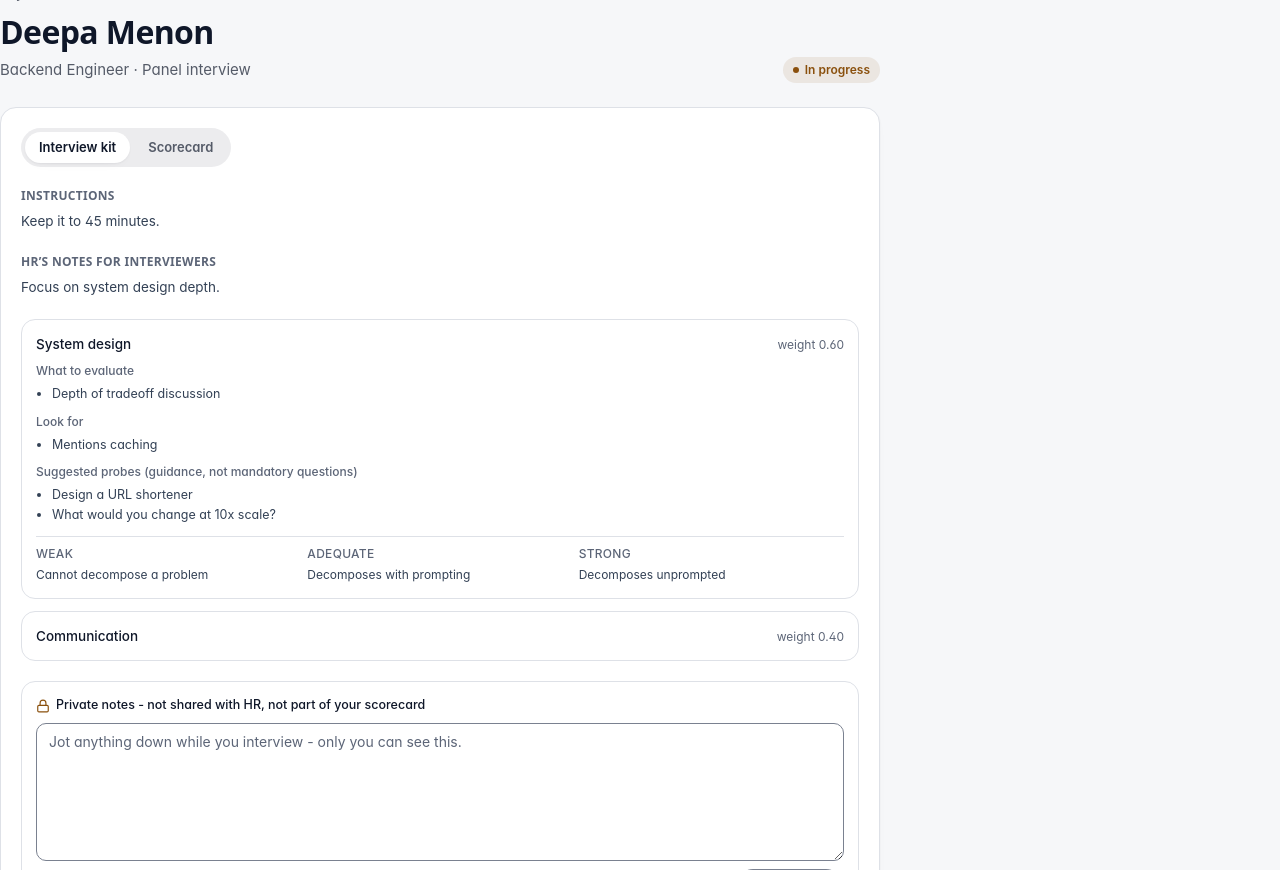
Test: InterviewerScorecard - the interview kit tab › labels the notes textarea as private and saves them
This screenshot has width=1280, height=870.
Expected: the text "not shared with HR, not part of your scorecard" is shown, [56,697,425,712]
Type "Candidate hesitated on caching." into the text box labelled "Private" at coordinates (440, 792), box [36,723,844,861]
(page scrolled)
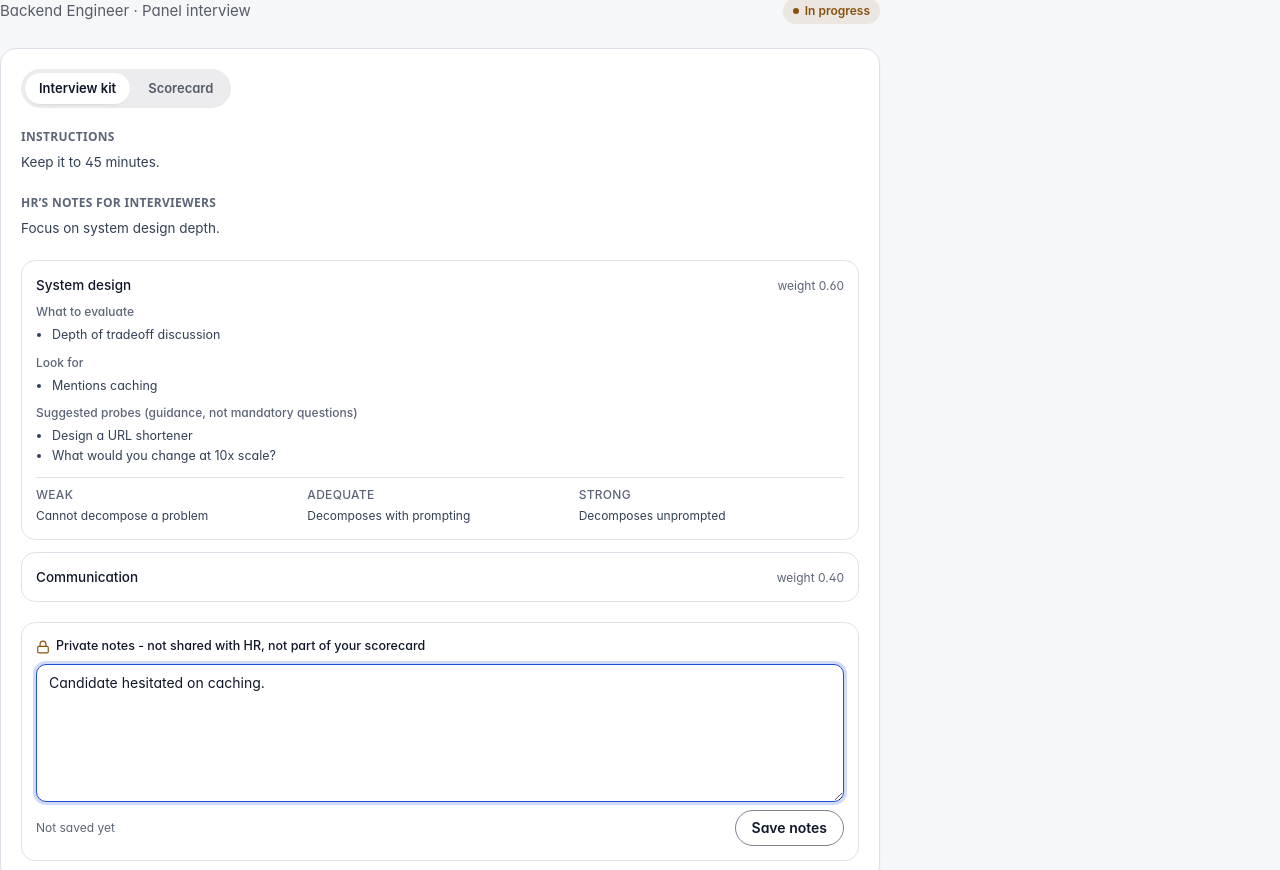
Click the button "Save notes" at coordinates (789, 828), box [734,810,844,846]
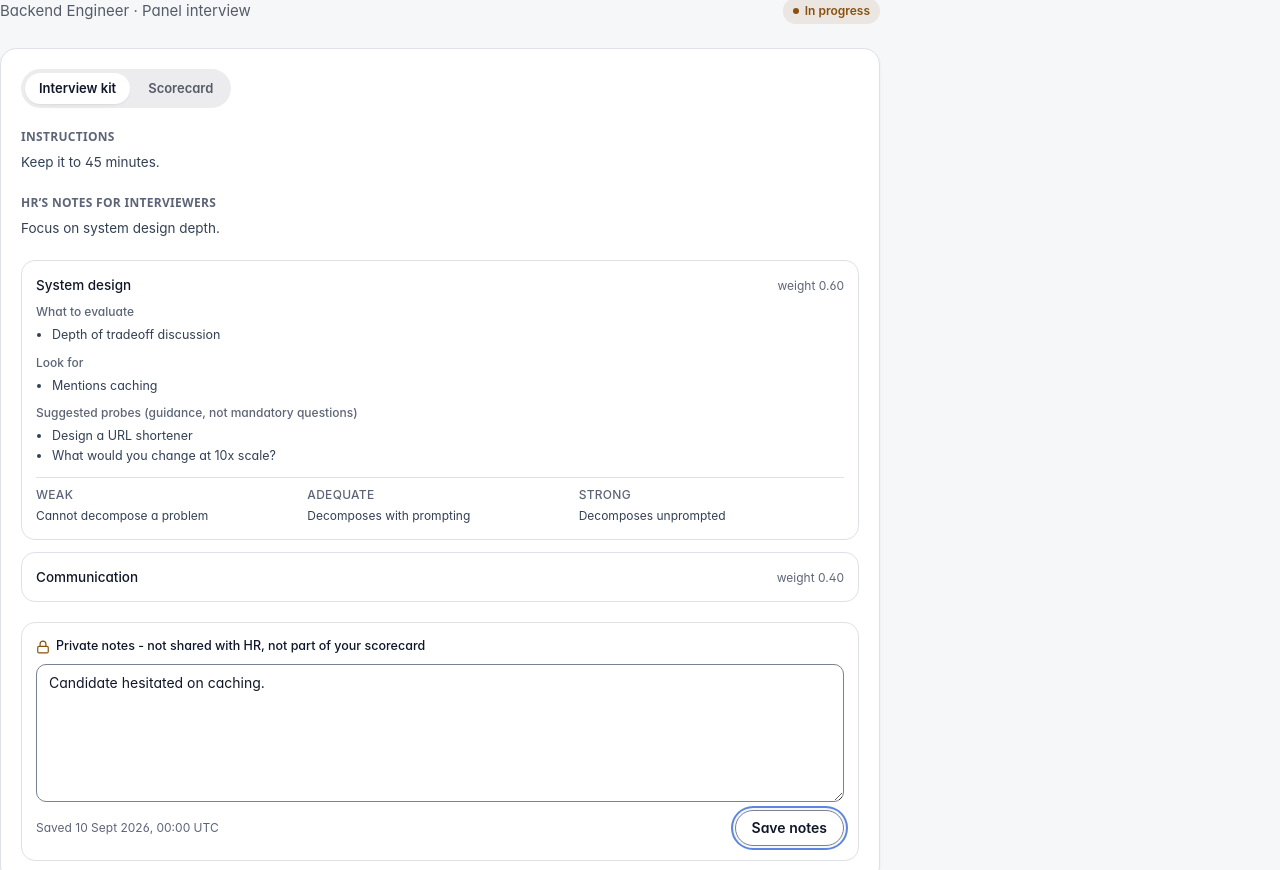
Expected: the text "Saved 10 Sept 2026, 00:00 UTC" is shown, [36,819,219,837]
Expected: the text "Not saved yet" is gone
